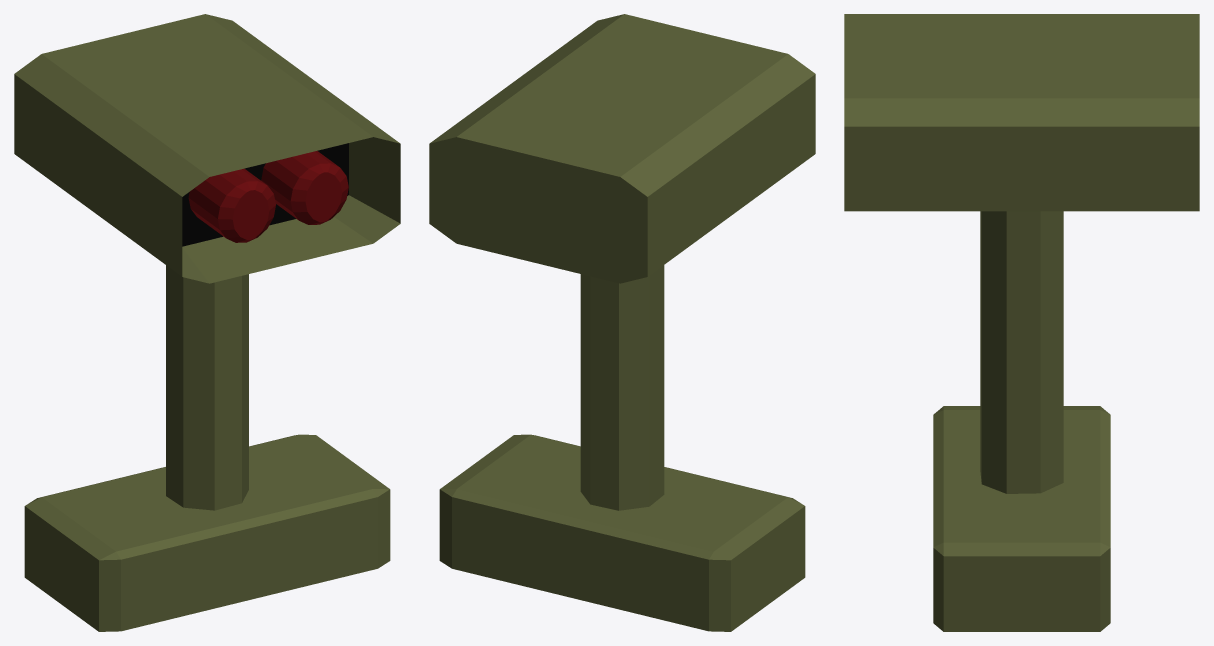
Rendered from Turret5.fbx.
3 views of the same model, side by side, from view 1: azimuth 30°, elevation 25°; view 2: azimuth 150°, elevation 25°; view 3: azimuth 270°, elevation 25° (orthographic). The views are drawn at different scales.
Visible parts, largest first — view 1: Cube.002, Cube; view 2: Cube.002, Cube; view 3: Cube.002, Cube.
Boxes of the visible parts, x1,y1,x2,y2 form: Cube.002: [14, 14, 400, 283]; Cube: [24, 265, 390, 631]; Cube.002: [429, 14, 815, 283]; Cube: [439, 265, 805, 631]; Cube.002: [844, 14, 1199, 211]; Cube: [933, 211, 1110, 631].
Size of the model in its own units: 200 by 311 by 200.
